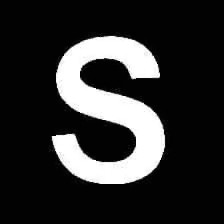LTR_S: (41, 29, 173, 191)
